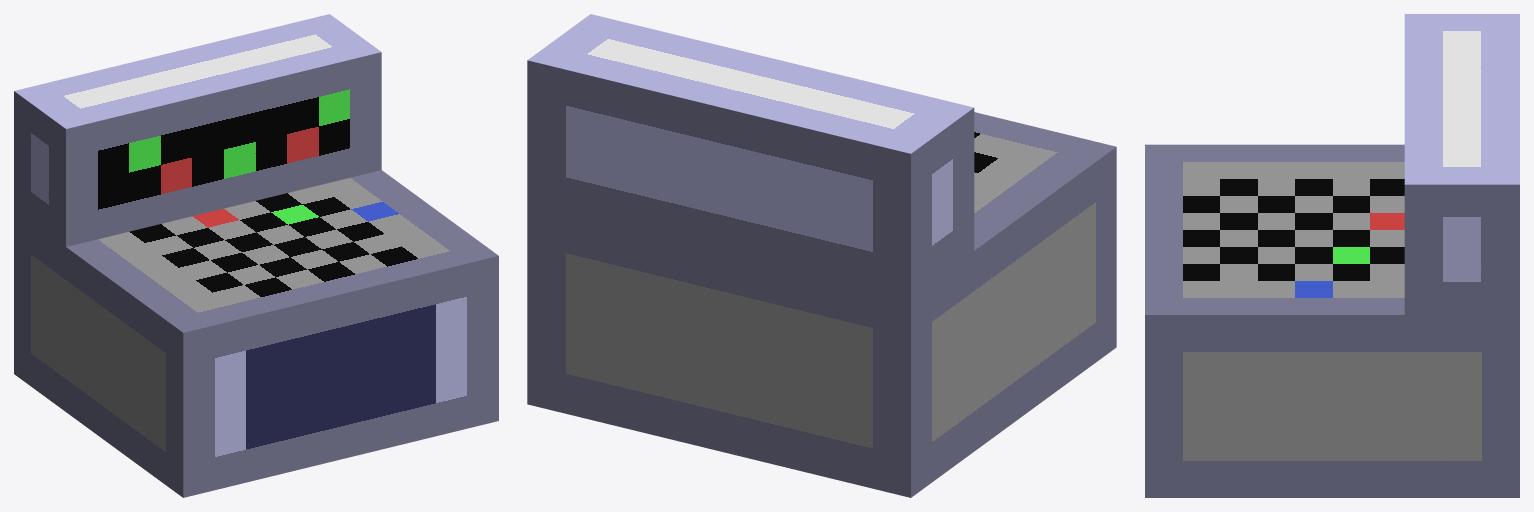
The model's file is hitek_tile_036.gltf.
The picture shows the model from 3 angles, left to right: view 1: azimuth 30°, elevation 25°; view 2: azimuth 150°, elevation 25°; view 3: azimuth 270°, elevation 25°; orthographic projection. The views are drawn at different scales.
Parts seen in each view (by area): view 1: hitek_tile_036; view 2: hitek_tile_036; view 3: hitek_tile_036.
Part boxes in pixels (x1,y1,x2,y2): hitek_tile_036: (14, 14, 498, 497); hitek_tile_036: (527, 14, 1116, 497); hitek_tile_036: (1145, 14, 1519, 497).
Size of the model in its own units: 14 by 12 by 13.
Materials: 1 (1 with a texture image).
